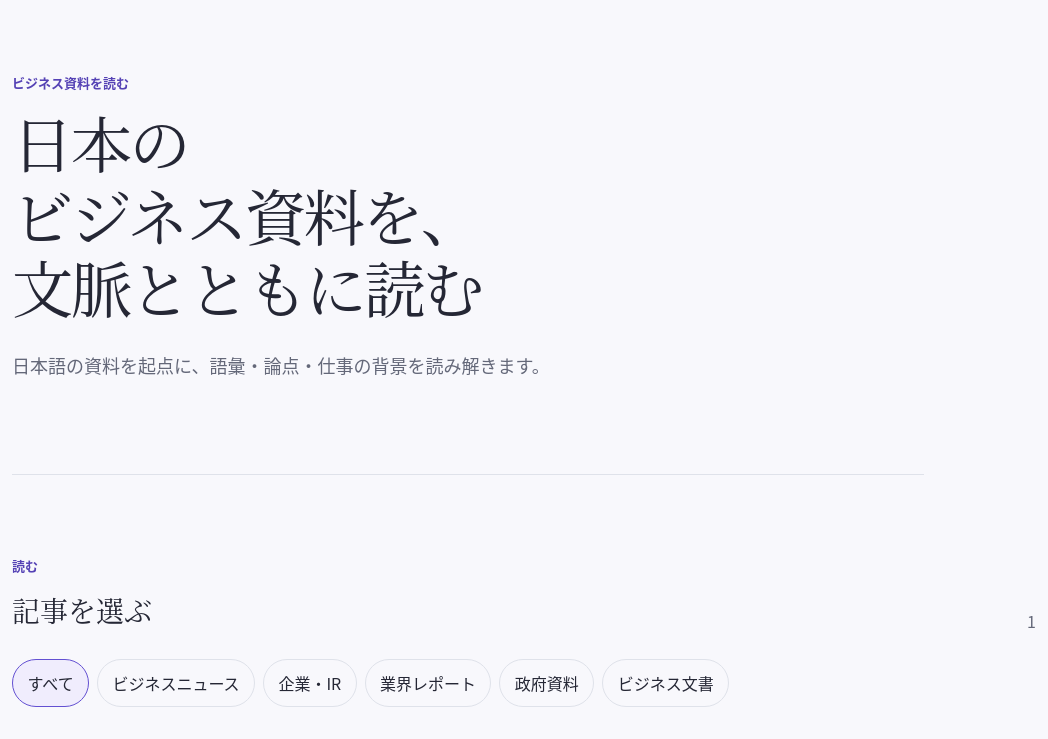
Test: Business Reading surfaces › shows the Japanese original free sample, category filters, and Book/Reader entry points
Expected: the heading "日本のビジネス資料を、文脈とともに読む" is shown, [12, 106, 525, 324]
Expected: the heading "記事を選ぶ" is shown, [12, 586, 152, 635]
Step 1. Click the button "ビジネスニュース" → [176, 683], box [97, 659, 255, 707]
(page scrolled)
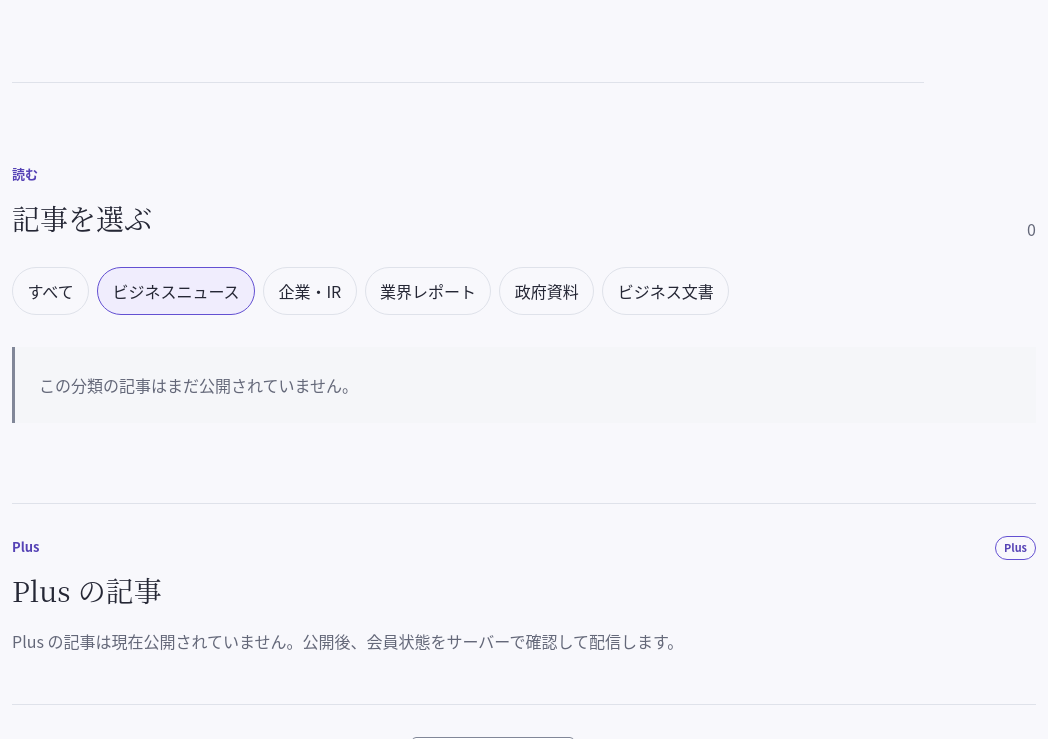
Expected: the message reads "この分類の記事はまだ公開されていません。", [39, 373, 358, 397]
